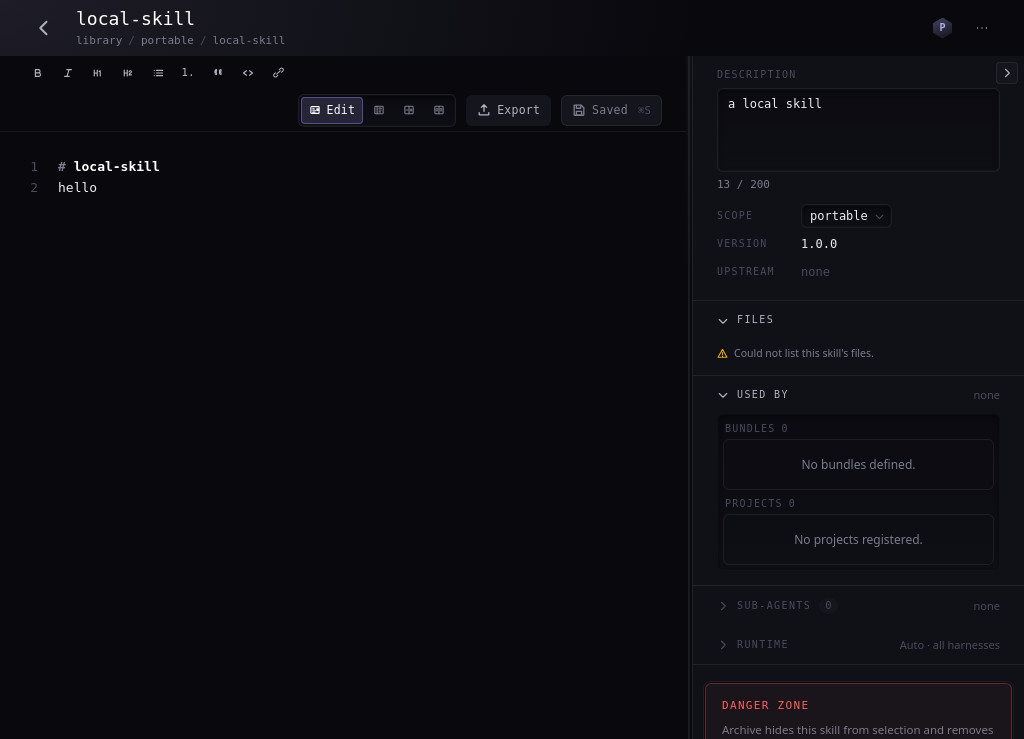
Scenario: SkillEditor Triggering picker › keeps the saved mode and explains a trailing sync failure
Click the button with test id "side-section-runtime" at [804, 645], box top-left (717, 626), bottom-right (892, 664)
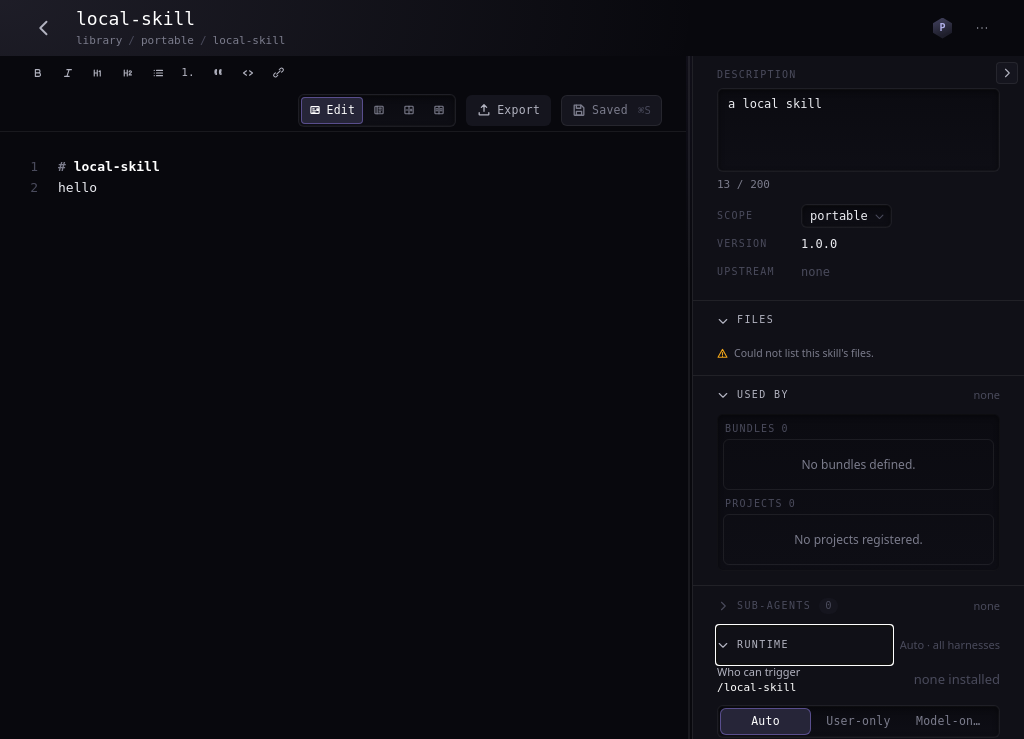
Click the radio button labelled "User-only" at [858, 721], box top-left (826, 714), bottom-right (891, 728)
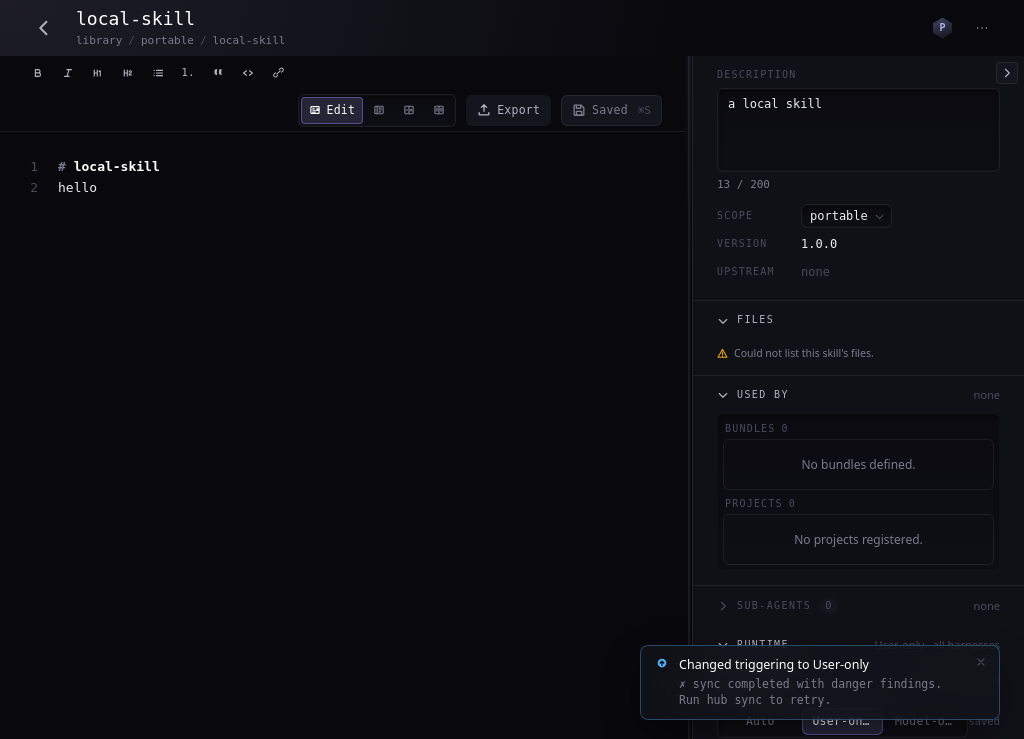
Expected: the radio button labelled "User-only" is checked, top-left (802, 708), bottom-right (883, 735)
Expected: the text "saved" is shown, top-left (968, 714), bottom-right (1000, 729)
Expected: the text "✗ sync completed with danger findings. Run hub sync to retry." is shown, top-left (679, 676), bottom-right (963, 709)
